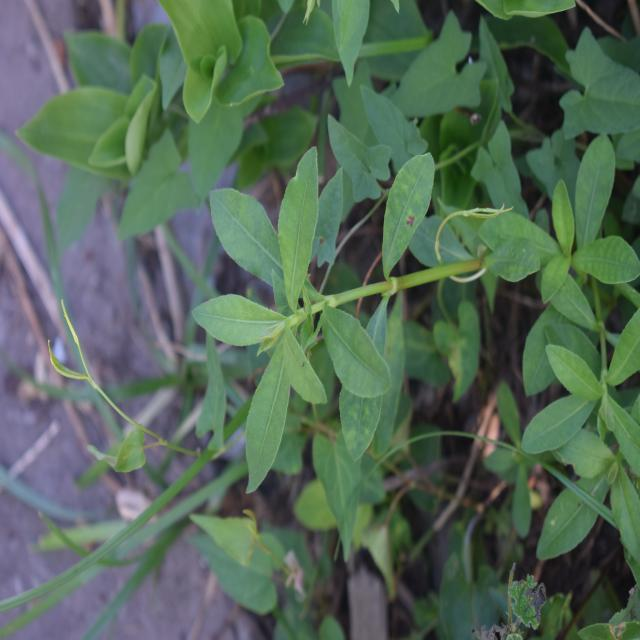Alligatorweed: (213, 179, 433, 478)
